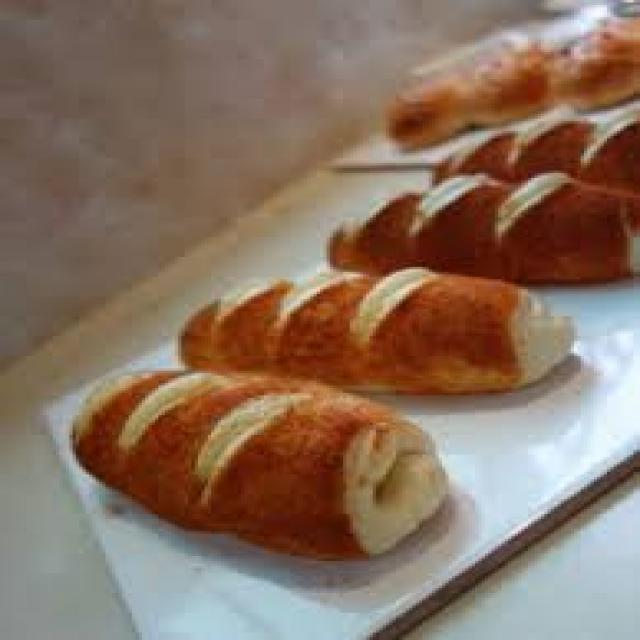organic waste: (63, 368, 445, 556), (172, 262, 578, 393), (316, 168, 636, 277), (379, 12, 637, 146), (426, 109, 636, 175)
